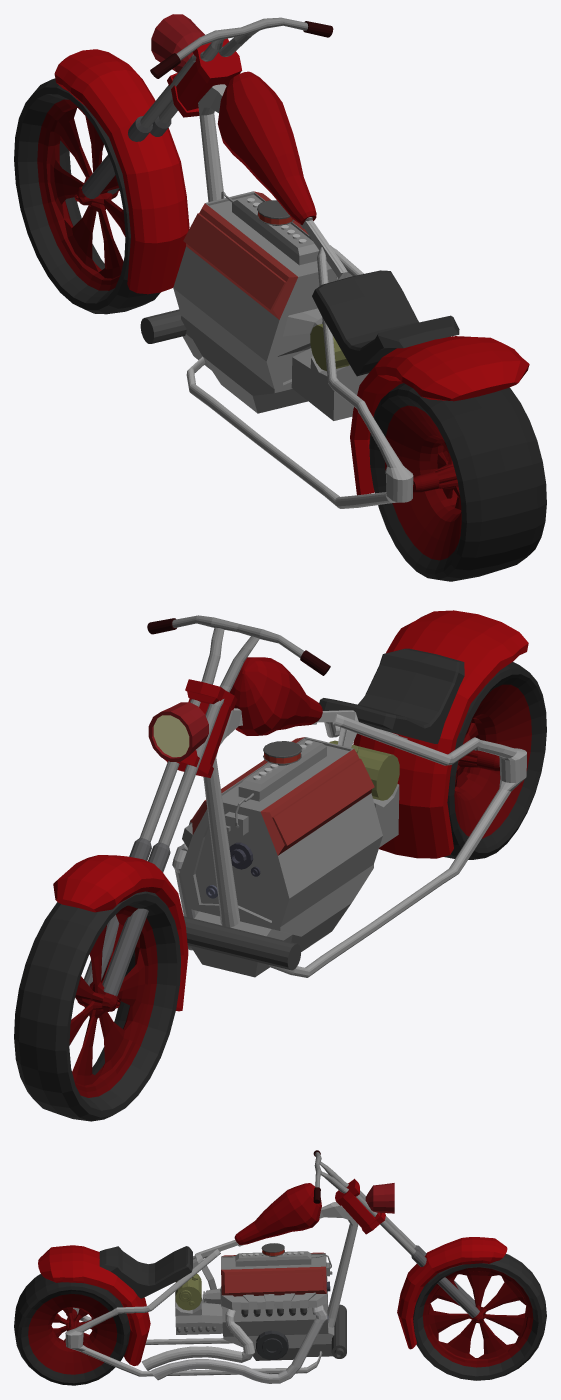
File: v8-chopper1.glb
The picture shows the model from 3 angles, top to bottom: view 1: azimuth 30°, elevation 25°; view 2: azimuth 150°, elevation 25°; view 3: azimuth 270°, elevation 25°; orthographic projection. The views are drawn at different scales.
Visible parts, largest first — view 1: Body, Rear wheel, Front steer, Front wheel; view 2: Body, Front wheel, Front steer, Rear wheel; view 3: Body, Front wheel, Rear wheel, Front steer.
Part boxes in pixels (x1=…): Body: x1=140, y1=71, x2=529, y2=508; Rear wheel: x1=369, y1=383, x2=546, y2=581; Front steer: x1=54, y1=14, x2=333, y2=294; Front wheel: x1=14, y1=78, x2=160, y2=314; Body: x1=172, y1=610, x2=528, y2=977; Front wheel: x1=14, y1=891, x2=180, y2=1121; Front steer: x1=53, y1=615, x2=330, y2=1011; Rear wheel: x1=444, y1=662, x2=546, y2=859; Body: x1=38, y1=1183, x2=358, y2=1383; Front wheel: x1=413, y1=1254, x2=546, y2=1380; Rear wheel: x1=14, y1=1274, x2=130, y2=1385; Front steer: x1=313, y1=1150, x2=507, y2=1349.
Bounding box in the file's own units: 2.2 × 4.27 × 9.55.
